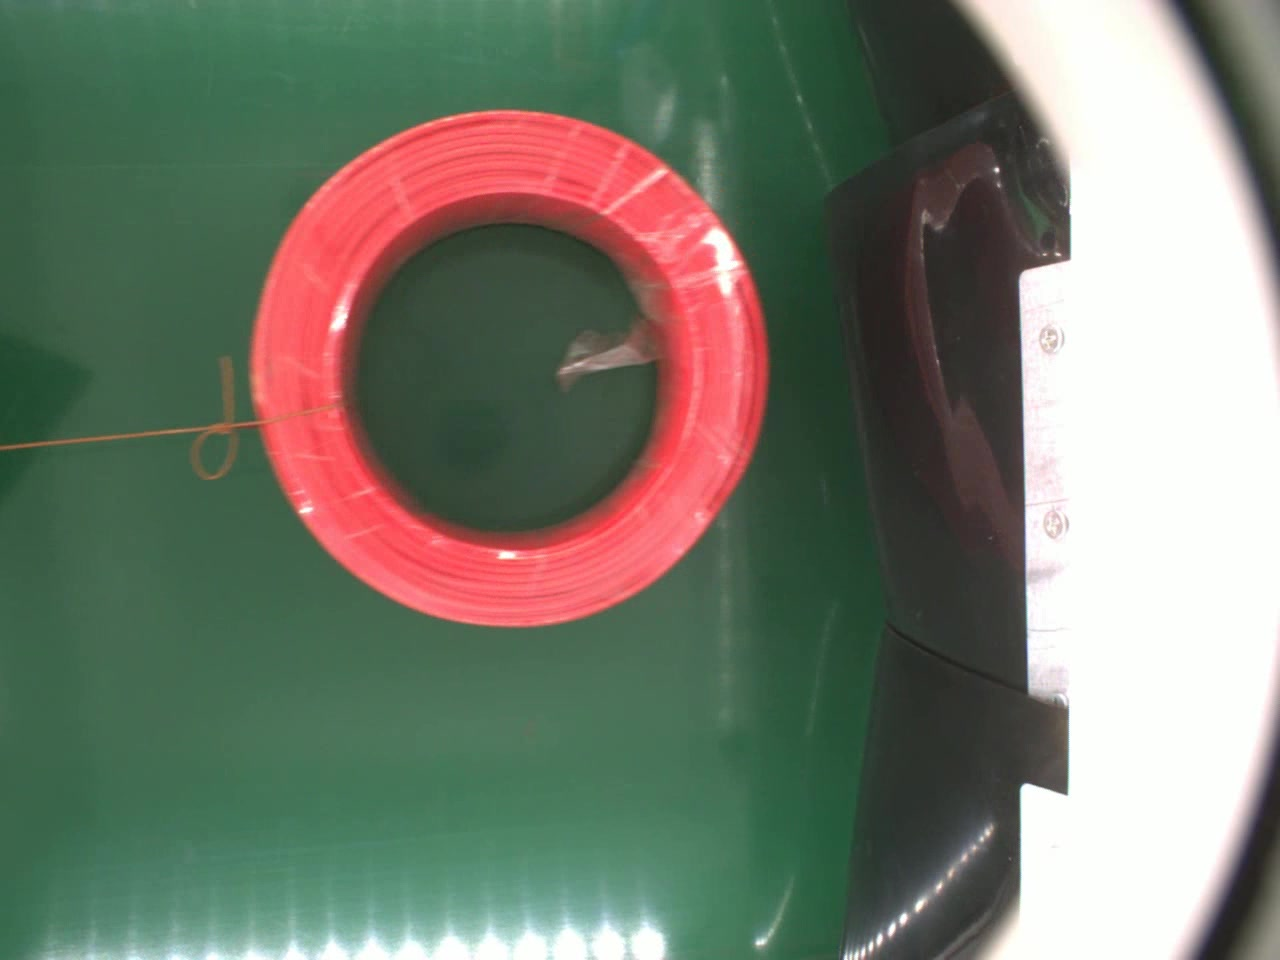red: (254, 107, 771, 628)
